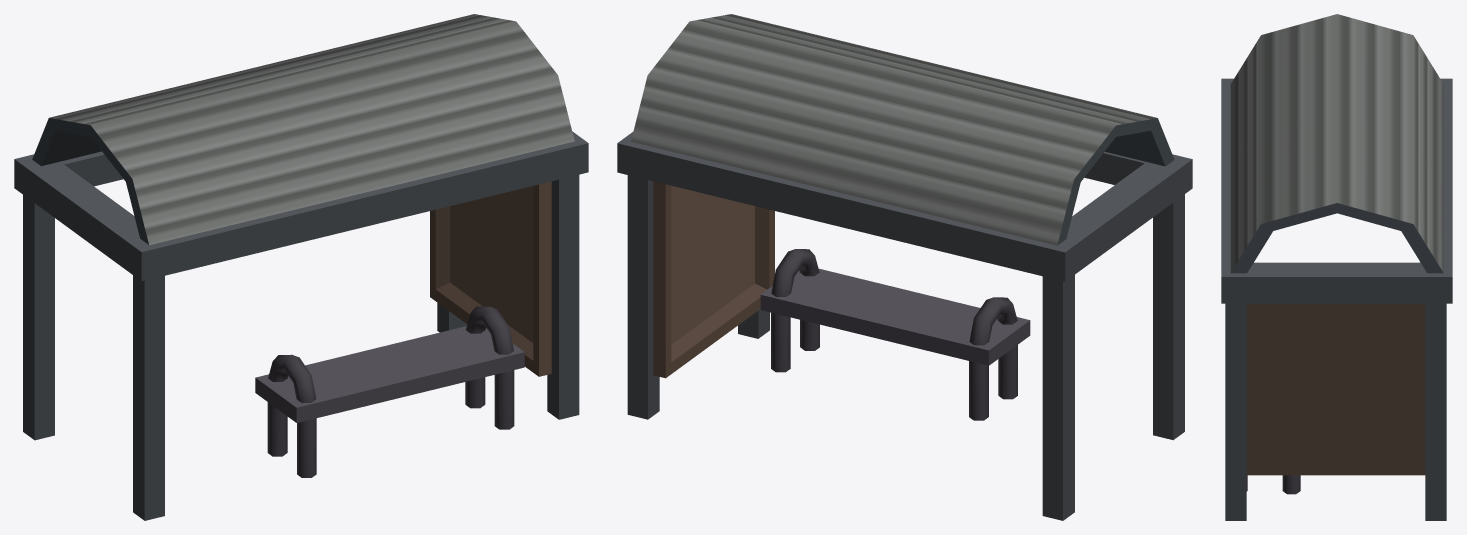
File: BusStop_01.fbx
3 views of the same model, side by side, from view 1: azimuth 30°, elevation 25°; view 2: azimuth 150°, elevation 25°; view 3: azimuth 270°, elevation 25° (orthographic). The views are drawn at different scales.
Parts seen in each view (by area): view 1: BusStop_01; view 2: BusStop_01; view 3: BusStop_01.
Part boxes in pixels (x1=…): BusStop_01: x1=14, y1=14, x2=588, y2=520; BusStop_01: x1=617, y1=14, x2=1192, y2=520; BusStop_01: x1=1221, y1=14, x2=1452, y2=520.
Bounding box in the file's own units: 444 × 331 × 219.
2 materials, 2 textured.
